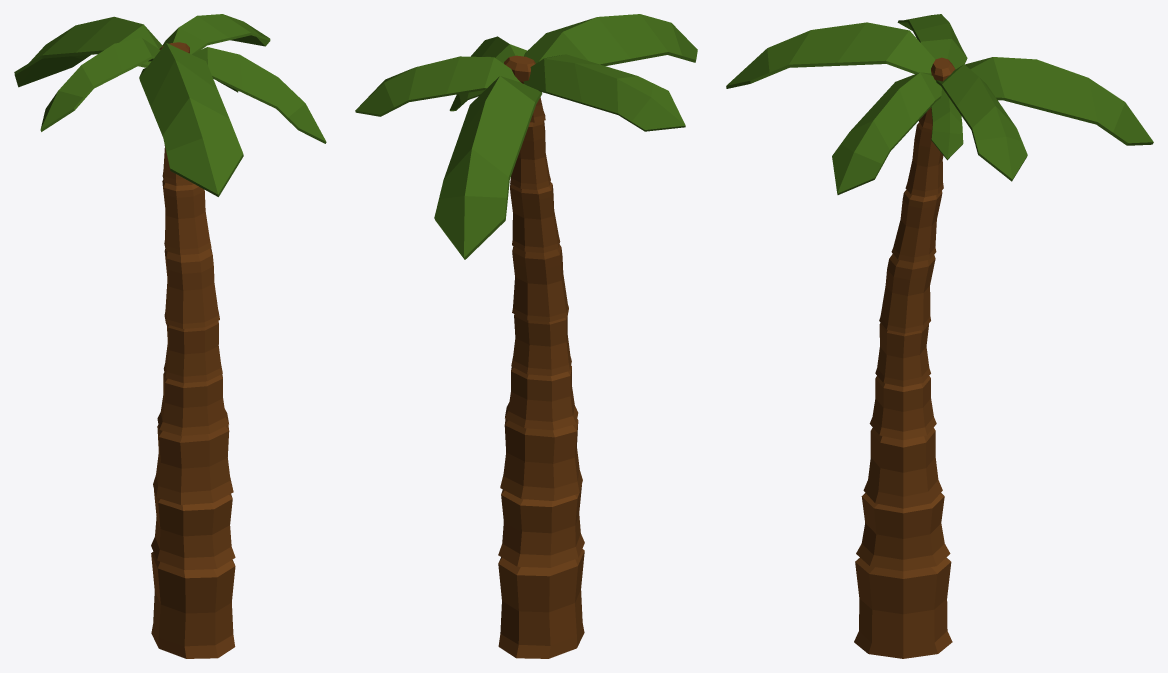
File: Palmera.fbx
3 views of the same model, side by side, from view 1: azimuth 30°, elevation 25°; view 2: azimuth 150°, elevation 25°; view 3: azimuth 270°, elevation 25° (orthographic). The views are drawn at different scales.
Parts seen in each view (by area): view 1: Hoja1; view 2: Hoja1; view 3: Hoja1.
Part boxes in pixels (left/top/right/bottom): Hoja1: left=14, top=14, right=326, bottom=658; Hoja1: left=355, top=14, right=697, bottom=658; Hoja1: left=726, top=14, right=1153, bottom=658.
Size of the model in its own units: 167 by 351 by 226.
